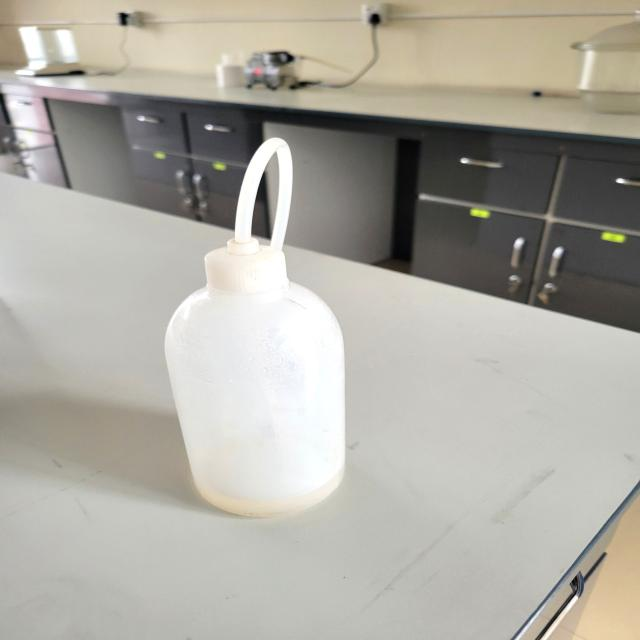Wash_Bottle: (140, 122, 361, 538)
